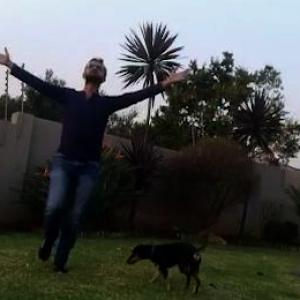takeoff: (0, 53, 177, 268)
